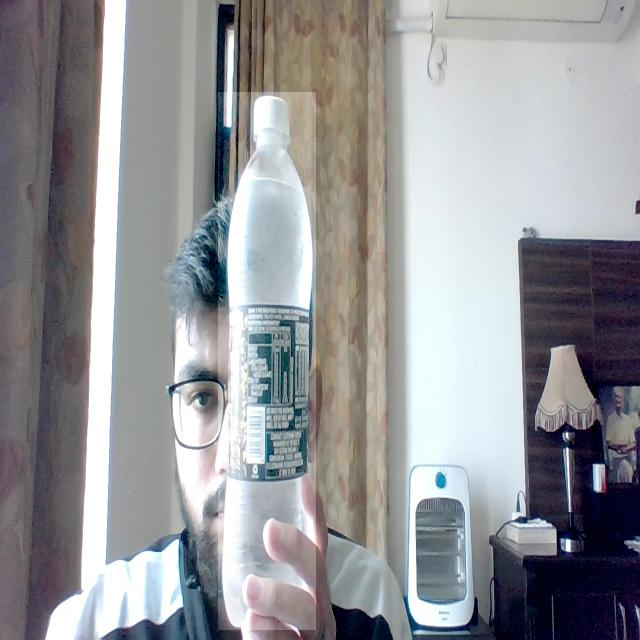full-bottle: (218, 92, 316, 630)
